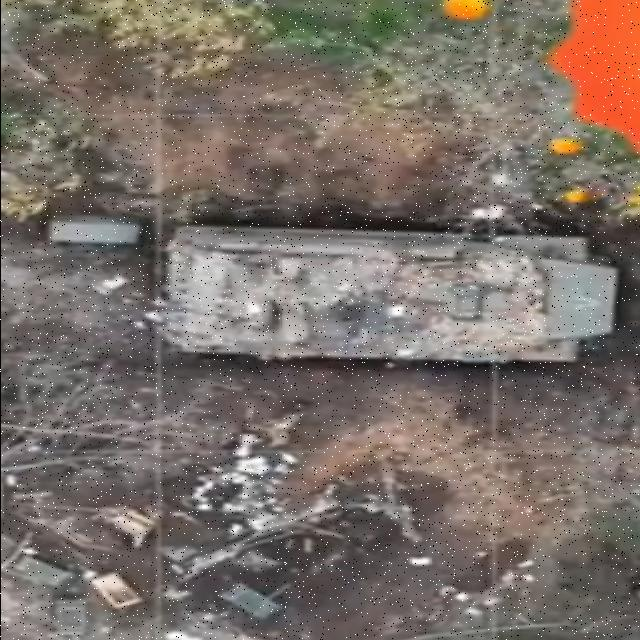APC-IFV: (145, 220, 622, 365)
